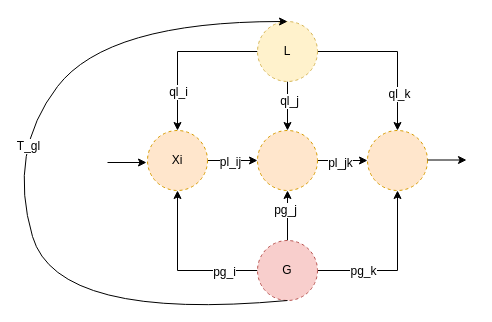
The diagram is 492 pixels wide and 322 high, and some of its shapes have lost their labels. Here are the shapes that lost their labels. From the top down, the centre of each, then its label:
At (287,160): "Xj".
At (397,160): "Xk".
